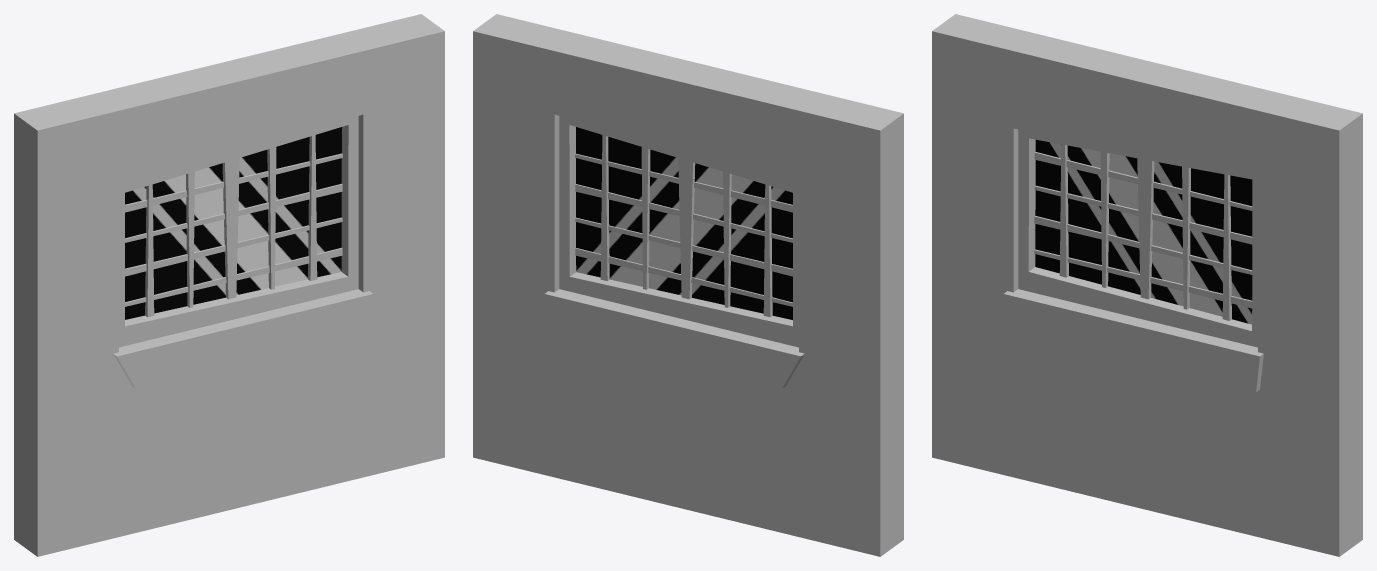
The model's file is window02.fbx.
The picture shows the model from 3 angles, left to right: view 1: azimuth 30°, elevation 25°; view 2: azimuth 150°, elevation 25°; view 3: azimuth 330°, elevation 25°; orthographic projection.
Parts seen in each view (by area): view 1: window02; view 2: window02; view 3: window02.
Part boxes in pixels (<box>): window02: <box>14,14,444,556</box>; window02: <box>473,14,903,556</box>; window02: <box>932,14,1362,556</box>.
Size of the model in its own units: 400 by 400 by 53.35.
